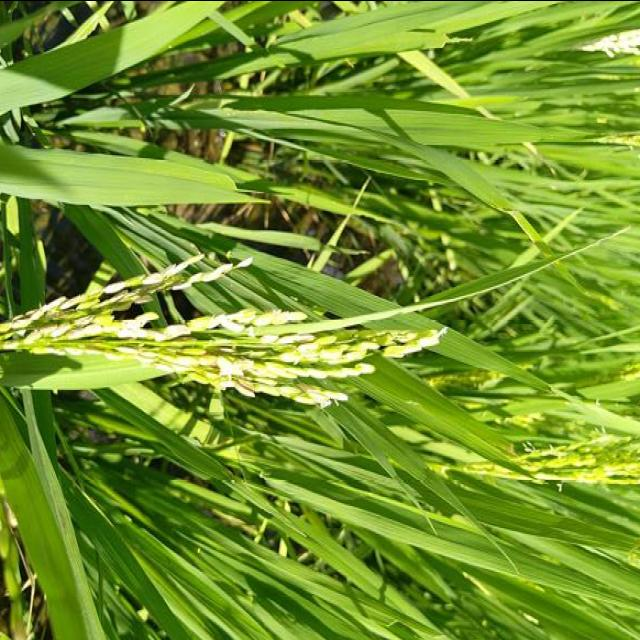Panicle Blight: (176, 349, 328, 401), (99, 264, 225, 302)
